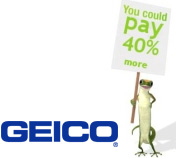geico: (1, 120, 125, 144)
